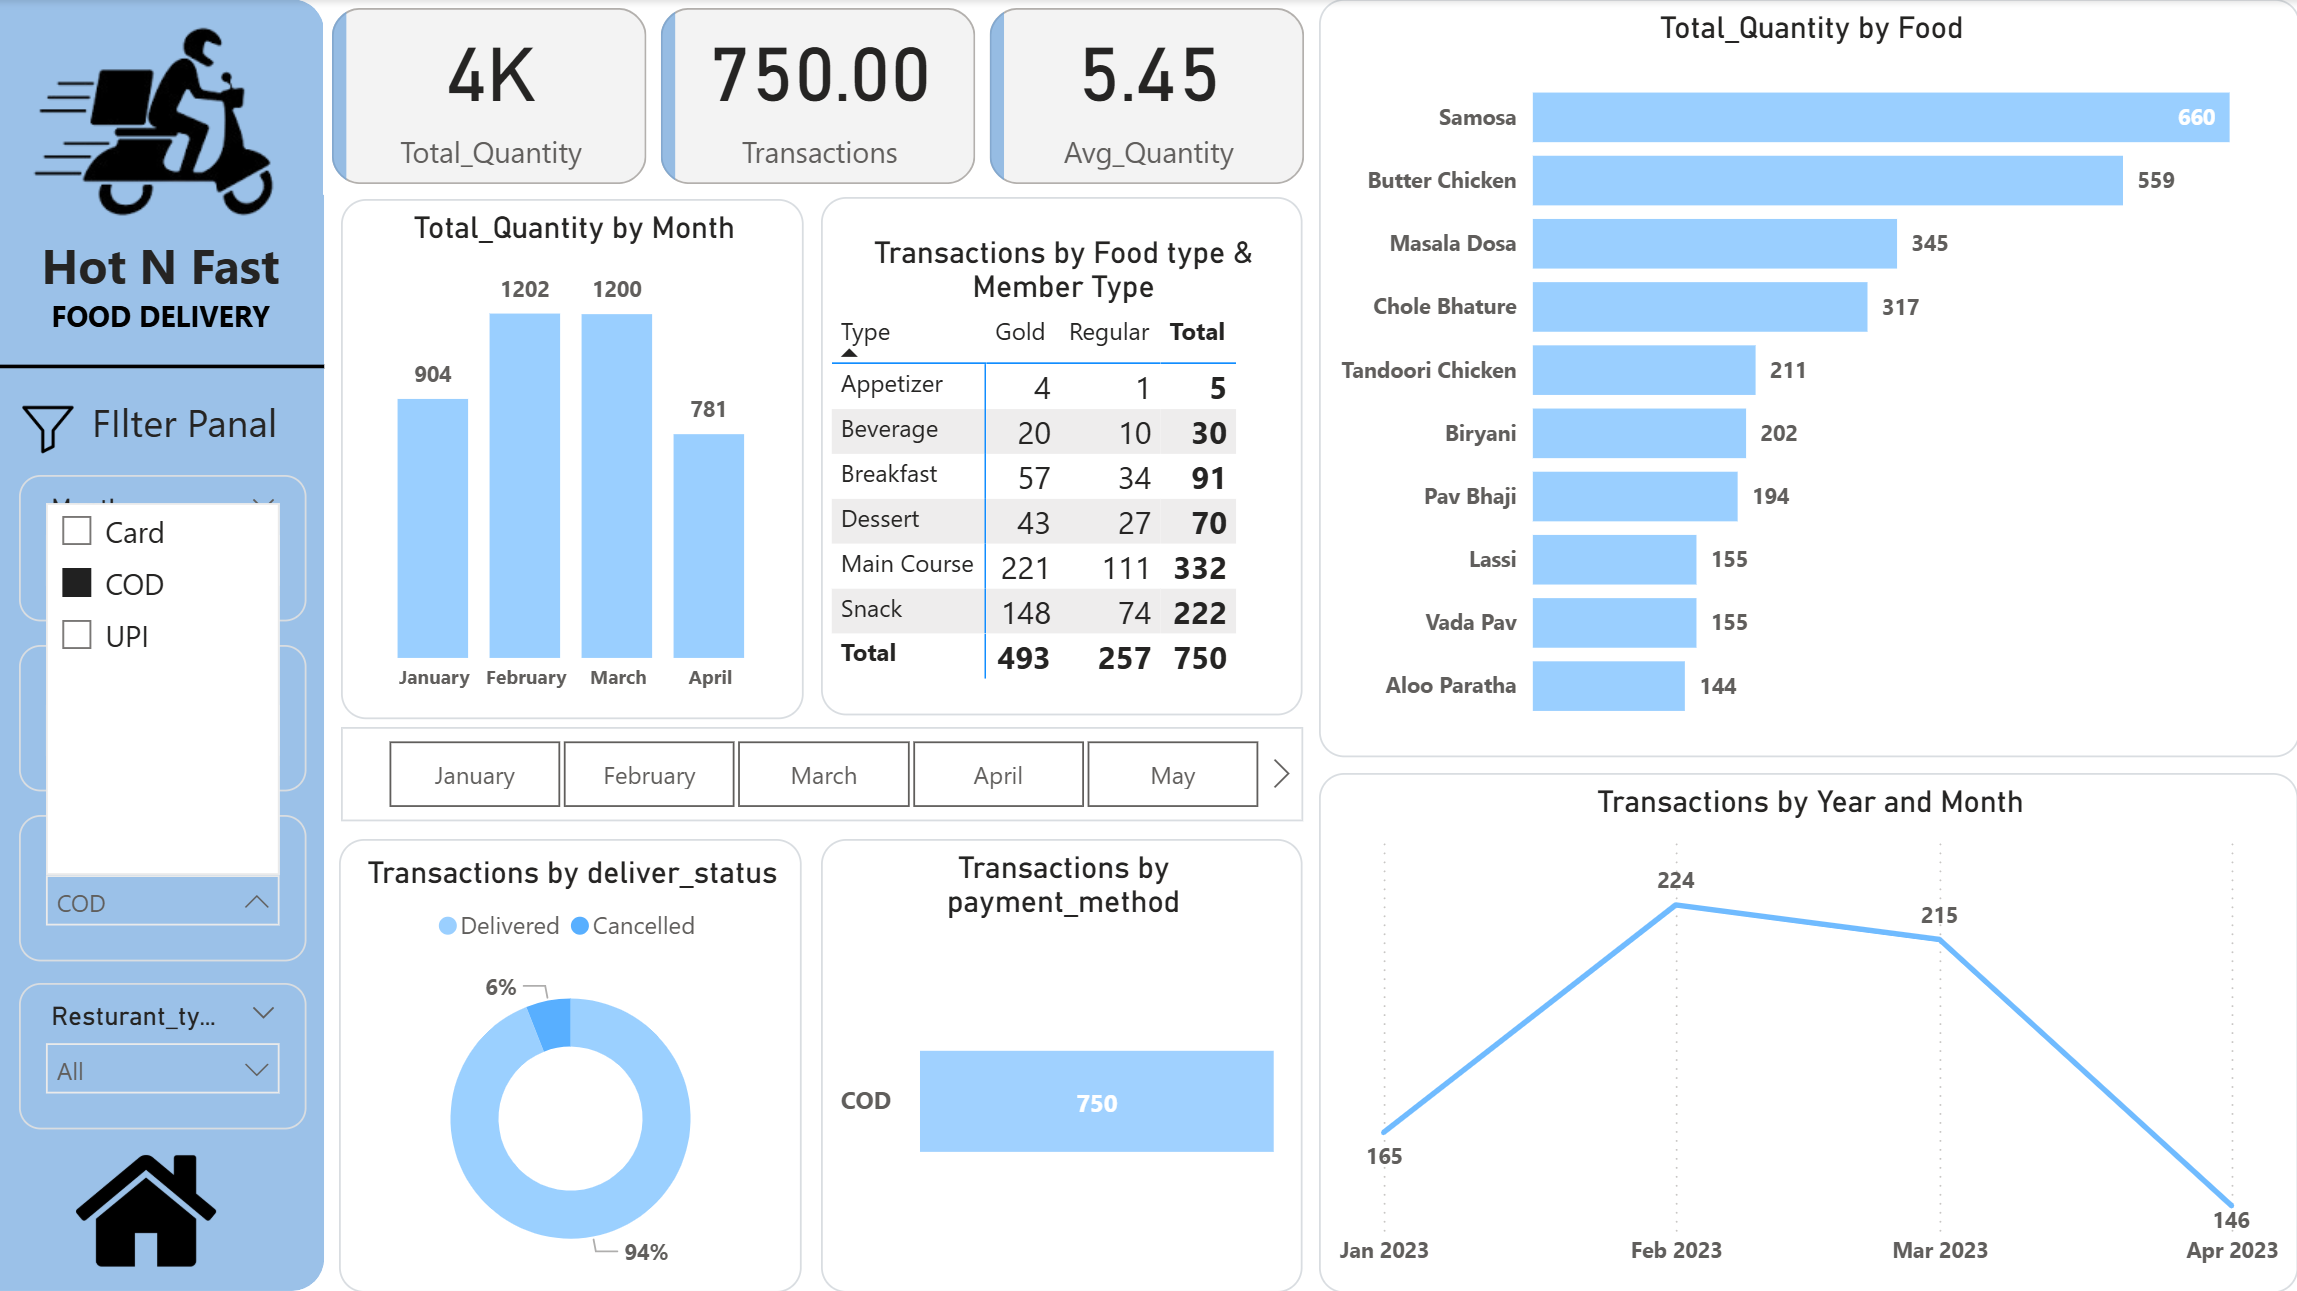

The page's visual inventory and layout, read from the dashboard file:
{"tool":"powerbi","page":{"name":"Page 1","canvas":[1280,720],"ordinal":0},"visuals":[{"type":"shape","box":[0,0,181,719],"z":0},{"type":"textbox","box":[8.9,124.9,161.9,88],"z":1000},{"type":"shape","box":[0,197.6,181,12.7],"z":2000},{"type":"cardVisual","fields":{"Data":["Sales Data.Total_Quantity","Sales Data.Transactions","Sales Data.Avg_Quantity"]},"box":[180.8,0,553.8,109],"z":3000},{"type":"clusteredColumnChart","fields":{"Y":["Sales Data.Total_Quantity"],"Category":["Sales Data.orderDate.Variation.Date Hierarchy.Month"]},"box":[190,110.9,257.5,289.4],"z":4000},{"type":"pivotTable","title":"Transactions by Food type & Member Type","fields":{"Rows":["Food_Details.Type"],"Columns":["Customer Details.member_Type"],"Values":["Sales Data.Transactions"]},"box":[457.7,110.3,267.9,288.5],"z":5000},{"type":"donutChart","fields":{"Category":["Sales Data.deliver_status"],"Y":["Sales Data.Transactions"]},"box":[189.7,467.9,257.7,252.6],"z":6000},{"type":"funnel","fields":{"Category":["Sales Data.payment_method"],"Y":["Sales Data.Transactions"]},"box":[457.7,467.9,267.9,252.6],"z":7000},{"type":"clusteredBarChart","fields":{"Y":["Sales Data.Total_Quantity"],"Category":["Food_Details.Food"]},"box":[734.6,0,546.2,421.8],"z":8000},{"type":"lineChart","fields":{"Y":["Sales Data.Transactions"],"Category":["Sales Data.orderDate.Variation.Date Hierarchy.Year","Sales Data.orderDate.Variation.Date Hierarchy.Month"]},"box":[734.6,430.8,544.9,289.7],"z":9000},{"type":"slicer","fields":{"Values":["Sales Data.orderDate.Variation.Date Hierarchy.Month"]},"box":[10.7,265.3,160,81.3],"z":10000},{"type":"slicer","fields":{"Values":["Customer Details.member_Type"]},"box":[10.7,360,160,81.3],"z":11000},{"type":"slicer","fields":{"Values":["Sales Data.payment_method"]},"box":[10.7,454.7,160,81.3],"z":12000},{"type":"slicer","fields":{"Values":["Resturant_Details.Resturant_type"]},"box":[10.7,548,160,81.3],"z":13000},{"type":"slicer","fields":{"Values":["Sales Data.orderDate.Variation.Date Hierarchy.Month"]},"box":[190,405.4,535.5,52.3],"z":14000},{"type":"image","box":[0,220,54.7,38.7],"z":15000},{"type":"image","box":[37.3,629.3,88,90.7],"z":16000},{"type":"textbox","box":[46.7,216,134.7,42.7],"z":17000},{"type":"image","box":[0,0,172.1,136.4],"z":18000}]}

Visuals, with their boxes in screenshot pixels (x1, y1, x2, y2), scaled from the page's 1280x720 canvas onto the 2297x1291 screenshot:
shape: bbox(0, 0, 325, 1289)
textbox: bbox(16, 224, 307, 382)
shape: bbox(0, 354, 325, 377)
cardVisual - Sales Data.Total_Quantity x Sales Data.Transactions: bbox(324, 0, 1318, 195)
clusteredColumnChart - Sales Data.Total_Quantity x Sales Data.orderDate.Variation.Date Hierarchy.Month: bbox(341, 199, 803, 718)
"Transactions by Food type & Member Type" pivotTable: bbox(821, 198, 1302, 715)
donutChart - Sales Data.deliver_status x Sales Data.Transactions: bbox(340, 839, 803, 1290)
funnel - Sales Data.payment_method x Sales Data.Transactions: bbox(821, 839, 1302, 1290)
clusteredBarChart - Sales Data.Total_Quantity x Food_Details.Food: bbox(1318, 0, 2296, 756)
lineChart - Sales Data.Transactions x Sales Data.orderDate.Variation.Date Hierarchy.Year: bbox(1318, 772, 2296, 1290)
slicer - Sales Data.orderDate.Variation.Date Hierarchy.Month: bbox(19, 476, 306, 621)
slicer - Customer Details.member_Type: bbox(19, 646, 306, 791)
slicer - Sales Data.payment_method: bbox(19, 815, 306, 961)
slicer - Resturant_Details.Resturant_type: bbox(19, 983, 306, 1128)
slicer - Sales Data.orderDate.Variation.Date Hierarchy.Month: bbox(341, 727, 1302, 821)
image: bbox(0, 394, 98, 464)
image: bbox(67, 1128, 225, 1290)
textbox: bbox(84, 387, 326, 464)
image: bbox(0, 0, 309, 245)
